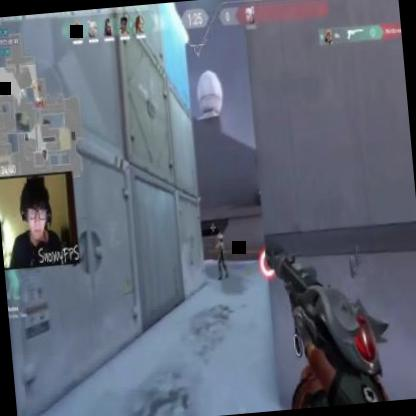enemy: (213, 231, 229, 280)
enemy_head: (218, 232, 223, 241)
